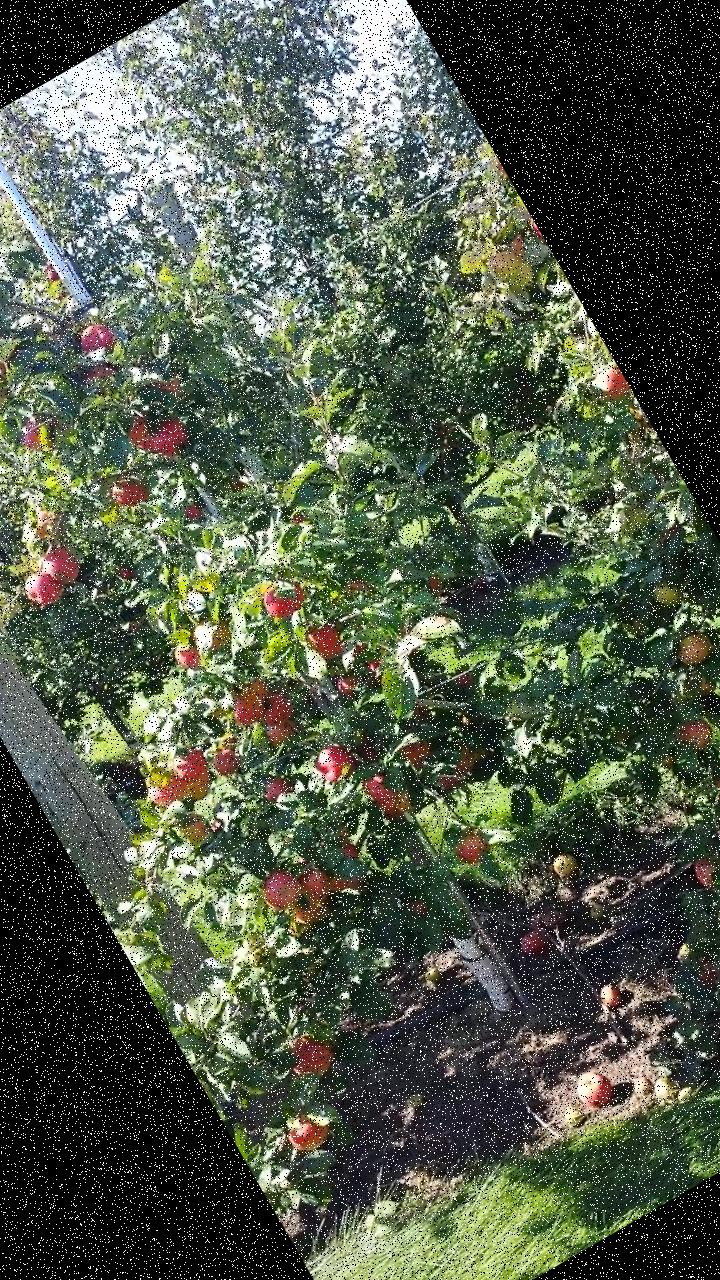Apple: (281, 1027, 339, 1086), (312, 839, 369, 896), (280, 1104, 337, 1160), (222, 674, 279, 728), (255, 862, 309, 917), (146, 409, 198, 464), (255, 574, 310, 624), (360, 768, 407, 824), (670, 622, 719, 675), (33, 540, 84, 590), (670, 711, 719, 760), (18, 564, 67, 612), (106, 466, 154, 514), (186, 610, 234, 658), (302, 618, 350, 666), (310, 736, 358, 783), (294, 861, 339, 909), (165, 743, 211, 787), (73, 316, 118, 360), (588, 364, 632, 409), (450, 824, 494, 869), (334, 737, 382, 778), (175, 764, 221, 806), (13, 412, 55, 457), (145, 771, 191, 812), (120, 412, 162, 456), (446, 734, 490, 776), (287, 892, 331, 932), (483, 243, 524, 284), (256, 686, 296, 728), (262, 710, 302, 749), (176, 808, 214, 848), (647, 574, 685, 614), (209, 743, 246, 781), (402, 734, 439, 770), (0, 326, 20, 392), (688, 850, 719, 892), (168, 636, 204, 672), (502, 256, 538, 290), (26, 506, 61, 540), (258, 771, 293, 804), (79, 356, 116, 386), (152, 370, 184, 400), (498, 232, 530, 262), (436, 763, 468, 793), (390, 782, 419, 814), (692, 955, 719, 989), (334, 668, 364, 698), (691, 670, 716, 700), (182, 497, 207, 522), (452, 668, 476, 692), (426, 573, 447, 597)
